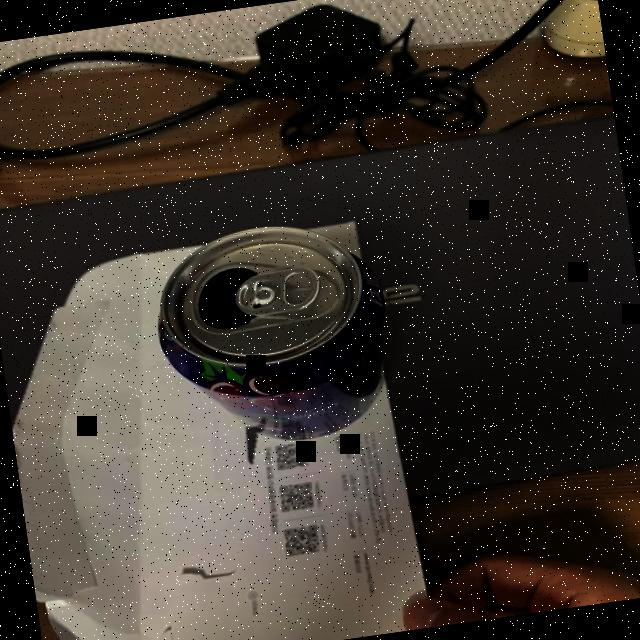can: (140, 210, 400, 468)
